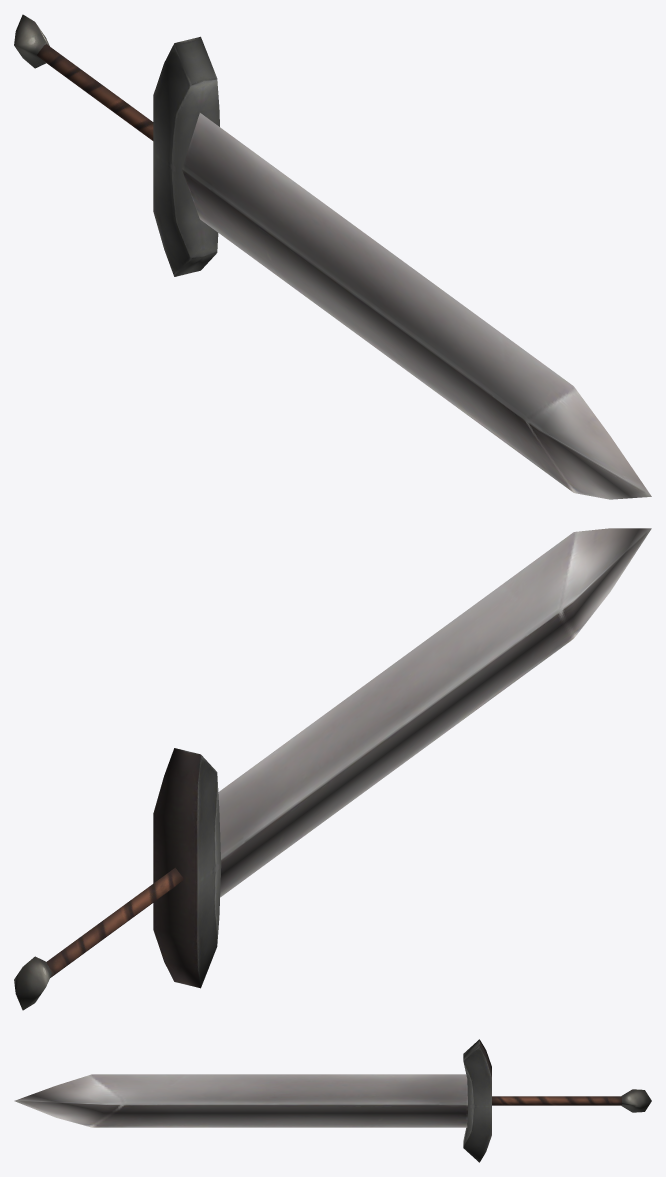
The model's file is 0000_greatsword.fbx.
The picture shows the model from 3 angles, top to bottom: view 1: azimuth 30°, elevation 25°; view 2: azimuth 150°, elevation 25°; view 3: azimuth 270°, elevation 25°; orthographic projection. The views are drawn at different scales.
Visible parts, largest first — view 1: 0000_greatsword; view 2: 0000_greatsword; view 3: 0000_greatsword.
Boxes of the visible parts, <box> form: 0000_greatsword: <box>14,14,651,499</box>; 0000_greatsword: <box>14,528,651,1010</box>; 0000_greatsword: <box>14,1039,651,1162</box>.
Size of the model in its own units: 0.1412 by 0.7122 by 3.51.
